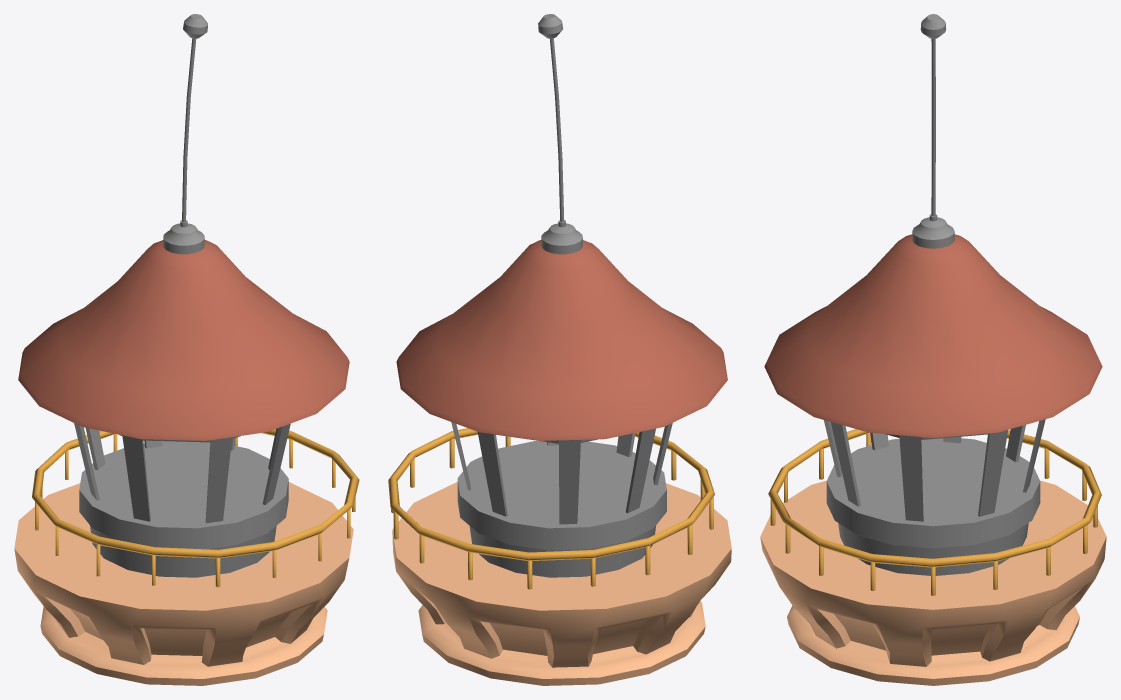
File: Techo.fbx
The picture shows the model from 3 angles, left to right: view 1: azimuth 30°, elevation 25°; view 2: azimuth 150°, elevation 25°; view 3: azimuth 270°, elevation 25°; orthographic projection.
Visible parts, largest first — view 1: Techo, Base.009, Cube.028; view 2: Techo, Base.009, Cube.028; view 3: Techo, Base.009, Cube.028.
Part boxes in pixels (x1,y1,x2,y2): Techo: (18,14,349,577); Base.009: (14,482,353,685); Cube.028: (32,429,359,587); Techo: (396,14,727,577); Base.009: (392,482,731,685); Cube.028: (388,428,714,589); Techo: (764,14,1102,575); Base.009: (760,480,1106,685); Cube.028: (768,429,1101,595).
Size of the model in its own units: 1513 by 2901 by 1482.
